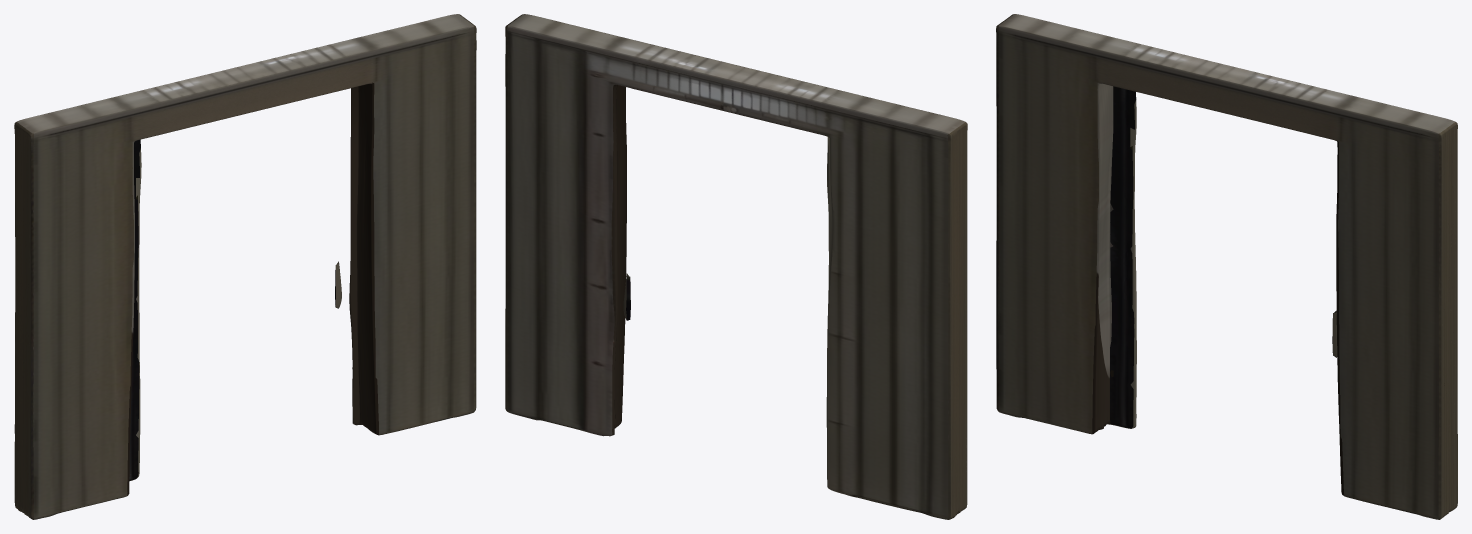
The model's file is Wall-Industrial-2.glb.
The picture shows the model from 3 angles, left to right: view 1: azimuth 30°, elevation 25°; view 2: azimuth 150°, elevation 25°; view 3: azimuth 330°, elevation 25°; orthographic projection.
Visible parts, largest first — view 1: tmptx7efjrz.ply; view 2: tmptx7efjrz.ply; view 3: tmptx7efjrz.ply.
Boxes of the visible parts, x1,y1,x2,y2 form: tmptx7efjrz.ply: [14, 14, 476, 519]; tmptx7efjrz.ply: [505, 14, 967, 519]; tmptx7efjrz.ply: [996, 14, 1457, 519].
Size of the model in its own units: 3 by 2.5 by 0.2.
1 material, 1 textured.
